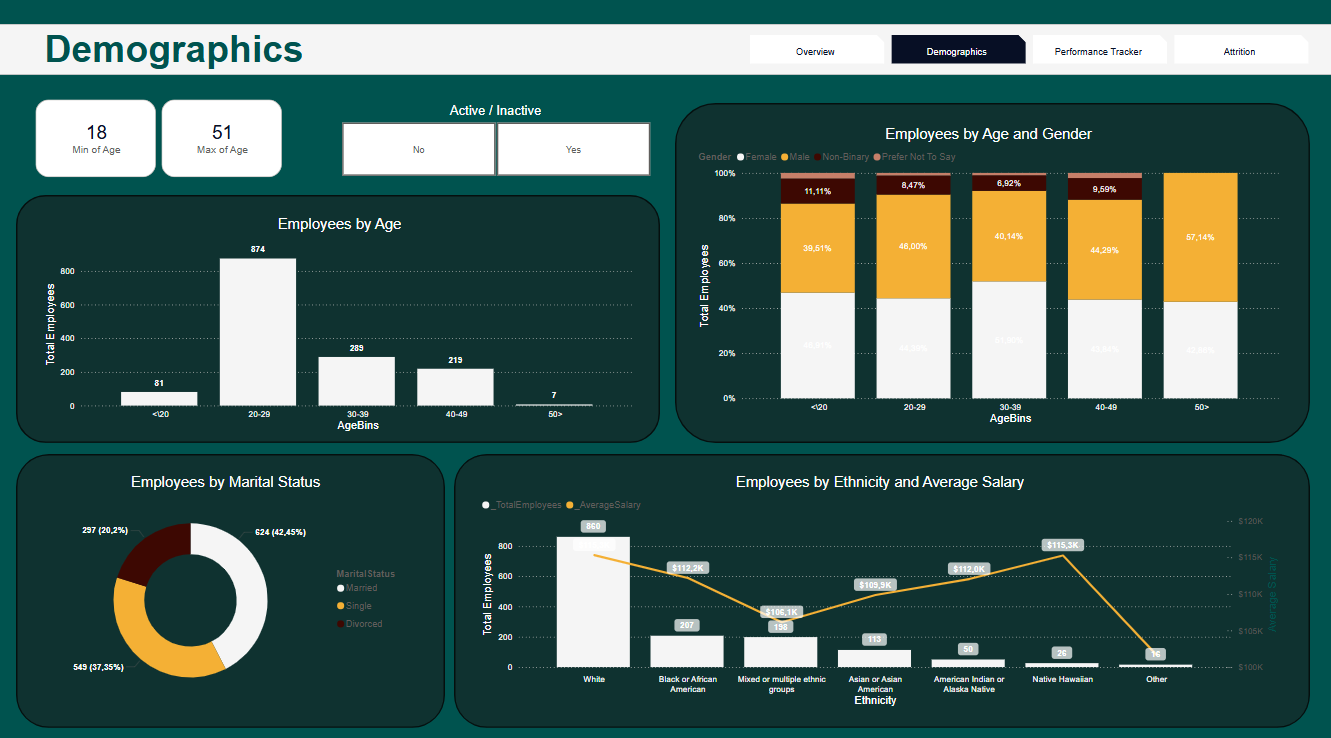

The dashboard page shown, as its layout file describes it:
{"tool":"powerbi","page":{"name":"Demographics","canvas":[1920,1080],"ordinal":1},"visuals":[{"type":"shape","box":[30,285.7,920,354.3],"z":0},{"type":"shape","box":[971.4,154.3,907.1,485.7],"z":1000},{"type":"shape","box":[30,655.7,612.9,391.4],"z":2000},{"type":"shape","box":[655.7,655.7,1222.9,391.4],"z":3000},{"type":"cardVisual","title":"Youngest EMployee","fields":{"Data":["Min(Dim_Employee.Age)","Max(Dim_Employee.Age)"]},"box":[52.9,144.3,362.9,121.4],"z":4000},{"type":"columnChart","title":"Employees by Age","fields":{"Y":["_Measures._TotalEmployees"],"Category":["Dim_Employee.AgeBins"]},"box":[65.7,315.7,852.9,312.9],"z":5000},{"type":"hundredPercentStackedColumnChart","title":"Employees by Age and Gender","fields":{"Y":["_Measures._TotalEmployees"],"Category":["Dim_Employee.AgeBins"],"Series":["Dim_Employee.Gender"]},"box":[1000,187.1,838.6,431.4],"z":6000},{"type":"slicer","title":"Active / Inactive","fields":{"Values":["Dim_Employee.Attrition"]},"box":[470,154.3,490,111.4],"z":7000},{"type":"donutChart","title":"Employees by Marital Status","fields":{"Category":["Dim_Employee.MaritalStatus"],"Y":["_Measures._TotalEmployees"]},"box":[65.7,684.3,527.1,337.1],"z":8000},{"type":"lineStackedColumnComboChart","title":"Employees by Ethnicity and Average Salary","fields":{"Category":["Dim_Employee.Ethnicity"],"Y":["_Measures._TotalEmployees"],"Y2":["_Measures._AverageSalary"]},"box":[690,684.3,1148.6,337.1],"z":9000},{"type":"shape","box":[0,41.7,1920.3,72.7],"z":10000},{"type":"pageNavigator","box":[1078.6,57.1,800,41.4],"z":11000},{"type":"textbox","box":[65.7,41.4,567.1,92.9],"z":12000}]}

Visuals, with their boxes in screenshot pixels (x1, y1, x2, y2), scaled from the page's 1920x1080 canvas onto the 1331x738 screenshot:
shape: <region>21, 195, 659, 437</region>
shape: <region>673, 105, 1302, 437</region>
shape: <region>21, 448, 446, 716</region>
shape: <region>455, 448, 1302, 716</region>
"Youngest EMployee" cardVisual: <region>37, 99, 288, 182</region>
"Employees by Age" columnChart: <region>46, 216, 637, 430</region>
"Employees by Age and Gender" hundredPercentStackedColumnChart: <region>693, 128, 1275, 423</region>
"Active / Inactive" slicer: <region>326, 105, 666, 182</region>
"Employees by Marital Status" donutChart: <region>46, 468, 411, 698</region>
"Employees by Ethnicity and Average Salary" lineStackedColumnComboChart: <region>478, 468, 1275, 698</region>
shape: <region>0, 28, 1330, 78</region>
pageNavigator: <region>748, 39, 1302, 67</region>
textbox: <region>46, 28, 439, 92</region>
